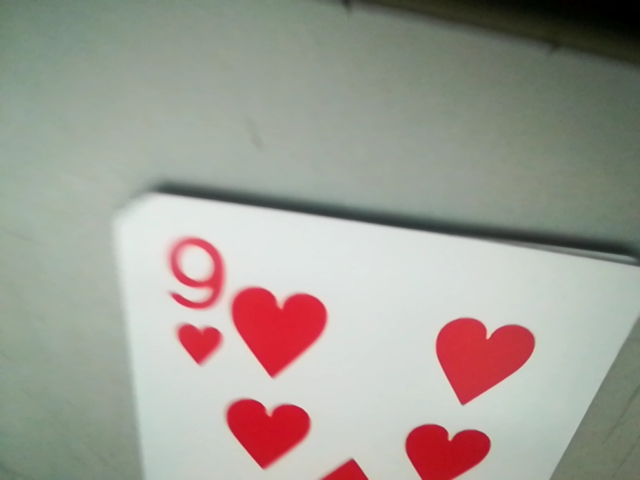hx 9: (148, 237, 232, 384)
